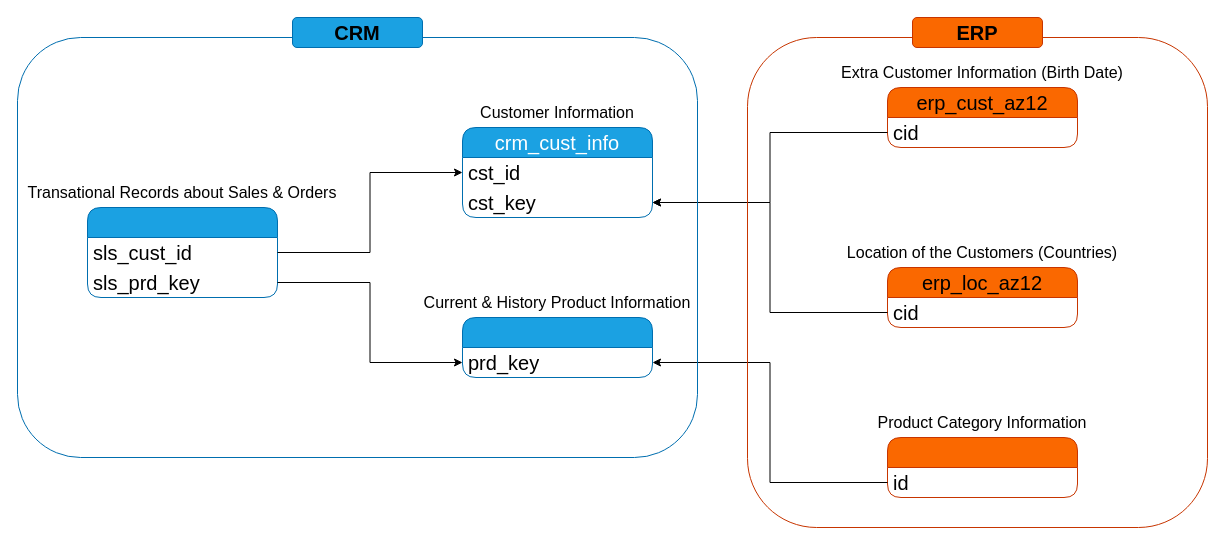
Some shapes in this 1225 by 545 pixel diagram are drawn without their labels. The box of each missing label's shape, as (x1, y1, x2, y2) in pixels:
crm_prd_info: (462, 316, 652, 378)
crm_sales_details: (86, 206, 278, 298)
erp_px_cat_g1v2: (886, 436, 1078, 498)
